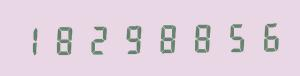eight: (50, 21, 82, 57), (149, 20, 181, 55), (182, 19, 214, 54)
five: (215, 18, 247, 54)
nine: (116, 20, 148, 56)
one: (17, 22, 49, 57)
six: (248, 18, 280, 53)
two: (83, 21, 115, 56)
